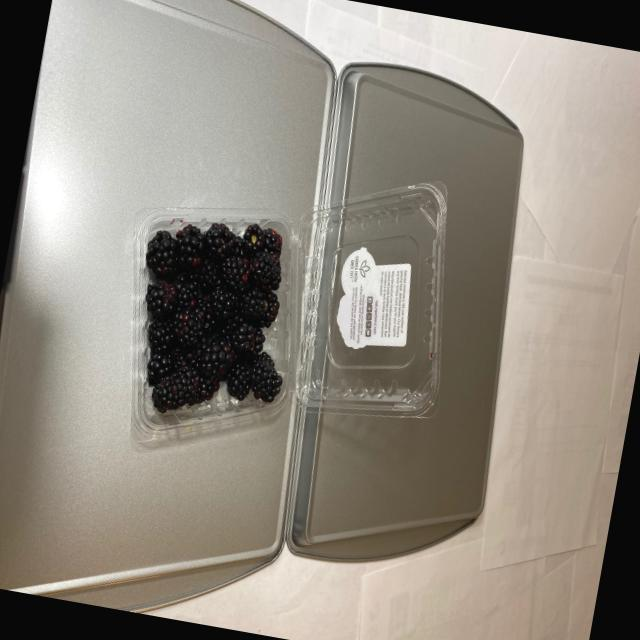blackberries: (120, 209, 310, 407)
